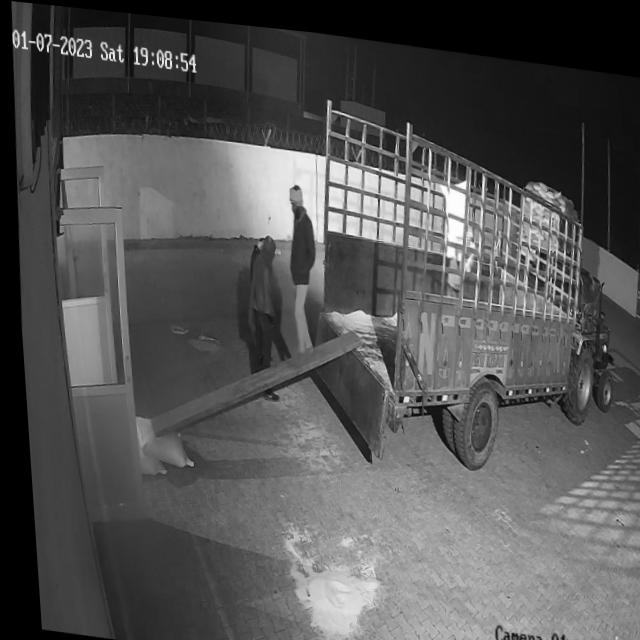sack: (128, 411, 187, 465)
